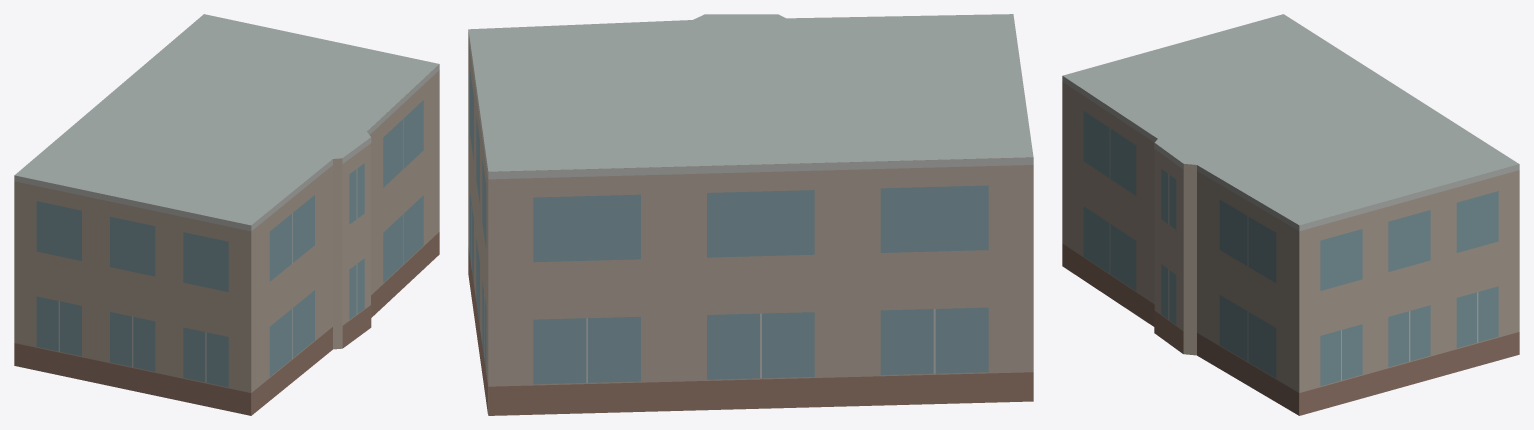
File: survey-upis-32624909.glb
3 views of the same model, side by side, from view 1: azimuth 30°, elevation 25°; view 2: azimuth 150°, elevation 25°; view 3: azimuth 270°, elevation 25° (orthographic). The views are drawn at different scales.
Visible parts, largest first — view 1: survey-upis-32624909.tmp; view 2: survey-upis-32624909.tmp; view 3: survey-upis-32624909.tmp.
Boxes of the visible parts, x1,y1,x2,y2 form: survey-upis-32624909.tmp: (14,14,439,415); survey-upis-32624909.tmp: (468,14,1033,415); survey-upis-32624909.tmp: (1062,14,1519,415).
Bounding box in the file's own units: 18.57 × 7.8 × 16.97.
